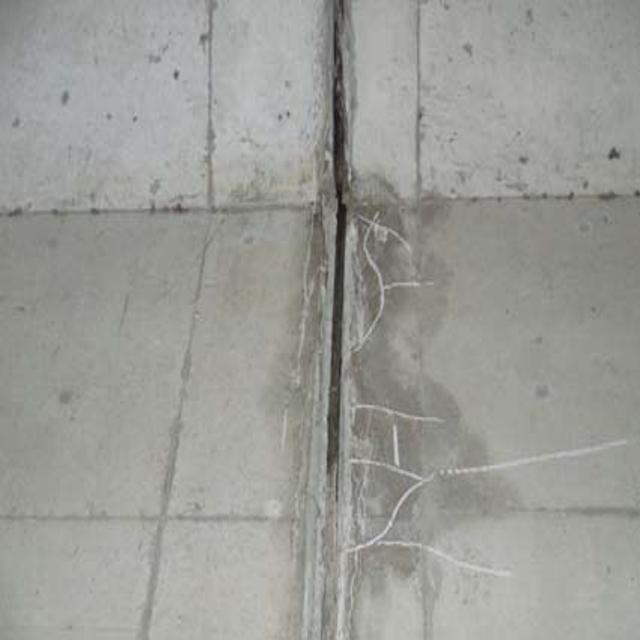leakage: (311, 56, 376, 521)
